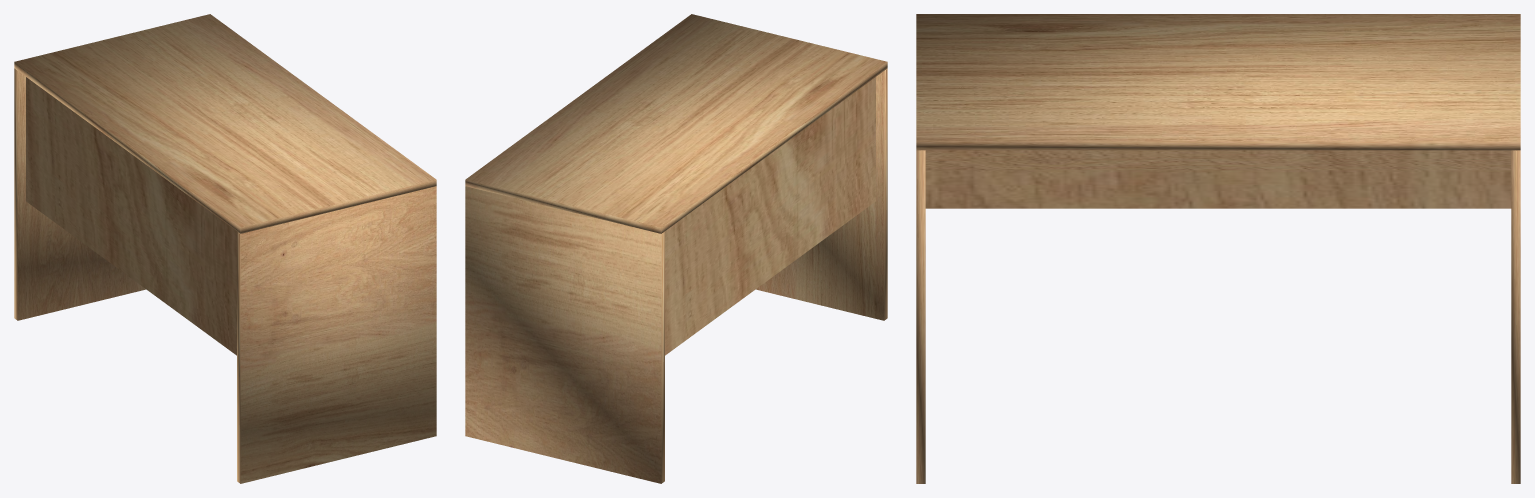
The model's file is desk-redder-textures.glb.
The picture shows the model from 3 angles, left to right: view 1: azimuth 30°, elevation 25°; view 2: azimuth 150°, elevation 25°; view 3: azimuth 270°, elevation 25°; orthographic projection. The views are drawn at different scales.
Visible parts, largest first — view 1: Cube.002, Cube.003, Cube.004, Cube; view 2: Cube, Cube.003, Cube.004, Cube.002; view 3: Cube.003, Cube.004, Cube.001, Cube, Cube.002.
Boxes of the visible parts, x1=… form: Cube.002: x1=237, y1=186, x2=436, y2=483; Cube.003: x1=14, y1=14, x2=436, y2=233; Cube.004: x1=26, y1=77, x2=236, y2=355; Cube: x1=14, y1=68, x2=145, y2=320; Cube: x1=465, y1=186, x2=664, y2=483; Cube.003: x1=465, y1=14, x2=887, y2=233; Cube.004: x1=665, y1=77, x2=875, y2=355; Cube.002: x1=756, y1=68, x2=887, y2=320; Cube.003: x1=916, y1=14, x2=1520, y2=150; Cube.004: x1=925, y1=170, x2=1511, y2=208; Cube.001: x1=925, y1=150, x2=1511, y2=170; Cube: x1=1511, y1=150, x2=1520, y2=483; Cube.002: x1=916, y1=150, x2=925, y2=483.
Size of the model in its own units: 24 by 30 by 48.
1 material, 1 textured.
